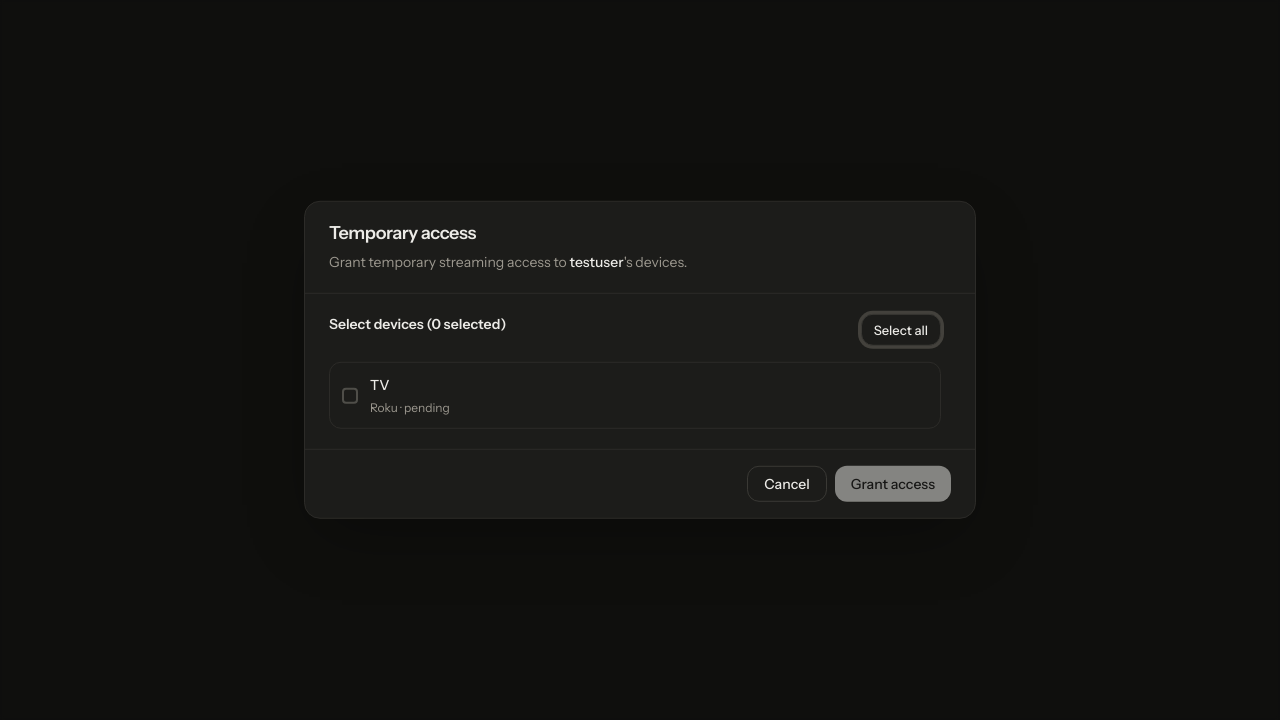
Test: TemporaryAccessModal › device selection › hides the duration and bypass sections until something is selected
Expected: the text "Access duration" is not shown
Expected: the text "Policy bypass" is not shown
Click the text "TV" at (380, 385), box [370, 376, 389, 394]
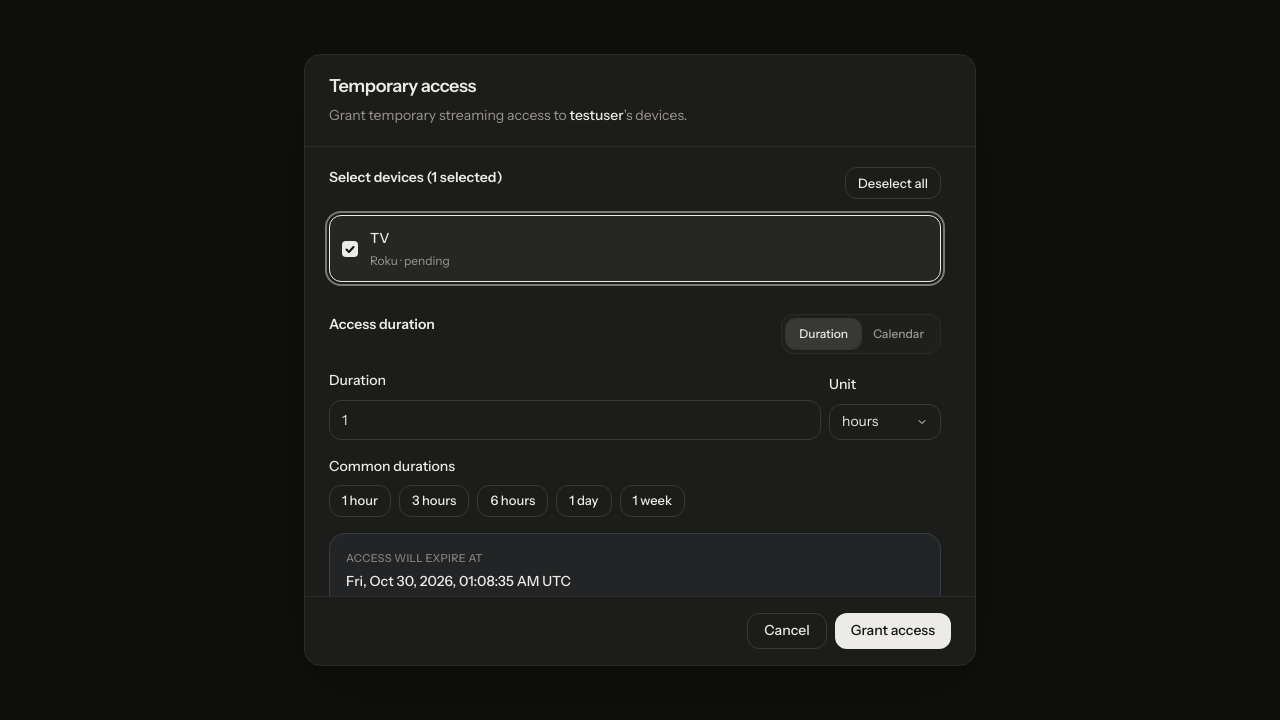
Expected: the heading "Access duration" is shown, [329, 314, 435, 336]
